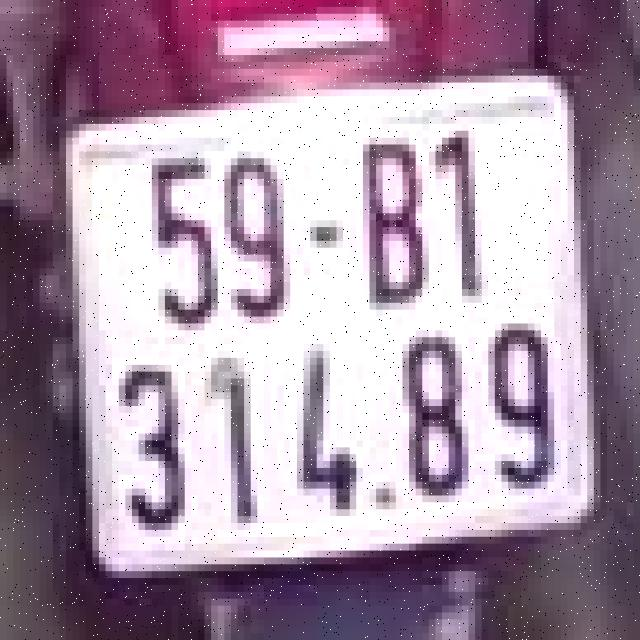1: (192, 337, 270, 537), (429, 120, 488, 306)
3: (89, 348, 195, 547)
4: (280, 330, 366, 530)
5: (138, 141, 224, 334)
8: (382, 320, 482, 513)
9: (472, 292, 570, 506), (221, 141, 294, 327)
B: (346, 127, 426, 313)
